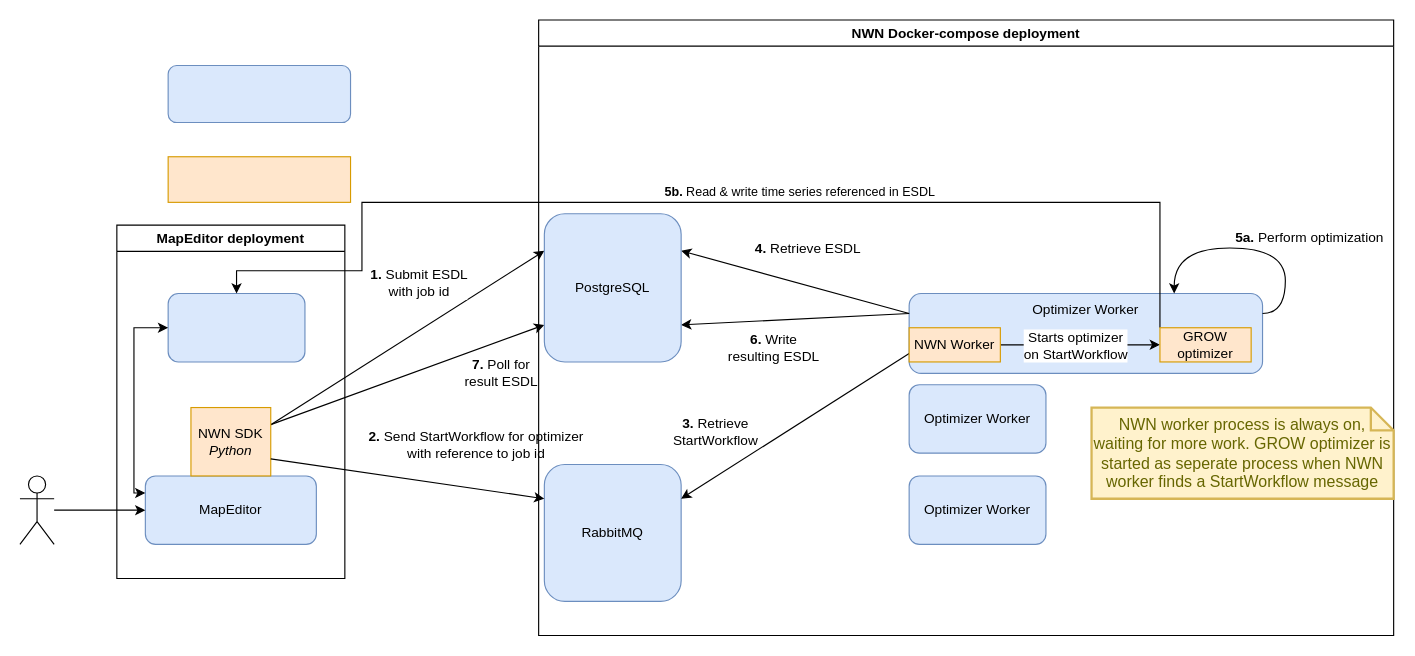
This 1415x656 diagram has some shape labels left out. The centre of each missing label's shape, as x and y in pixels:
Docker-container / System: [259,93]
InFlux DB: [236,327]
Library / application: [259,179]
User: [36,509]
